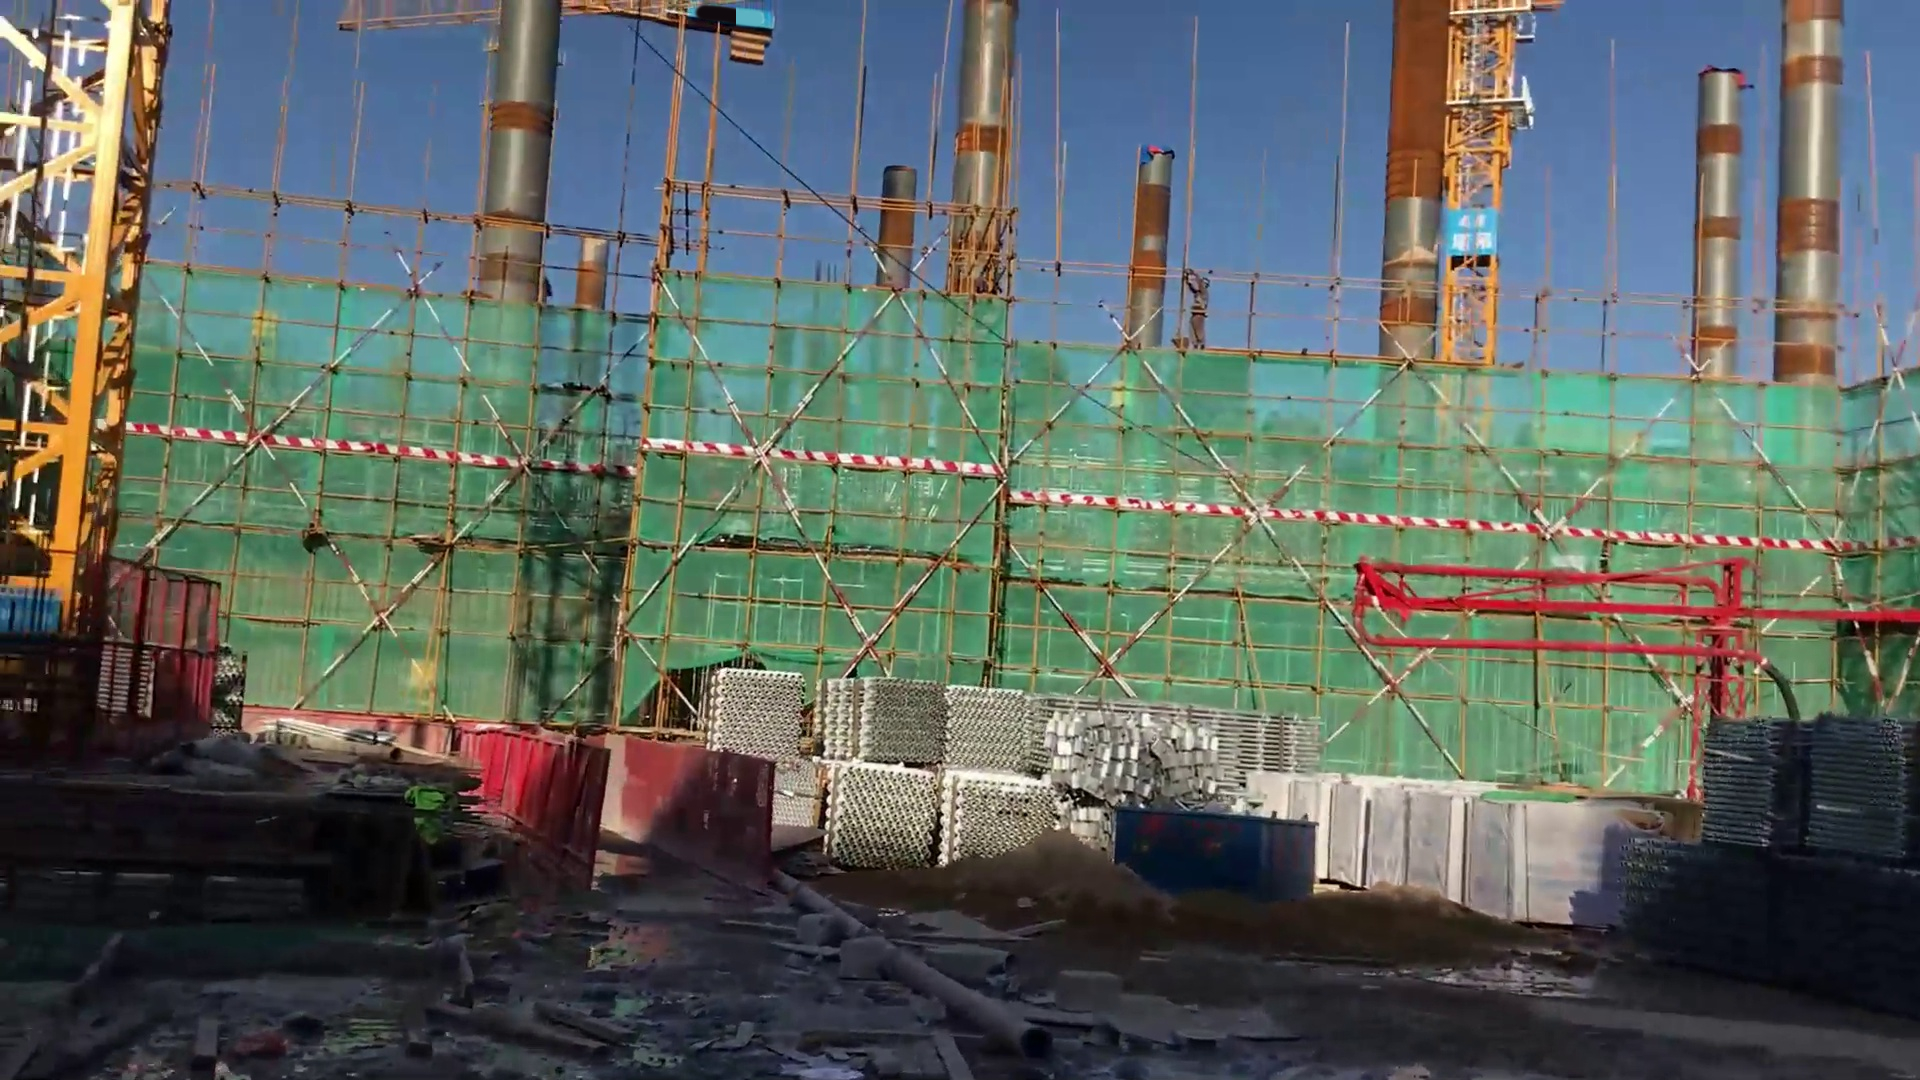fence: (393, 704, 764, 895), (75, 554, 233, 735)
hopper: (1112, 796, 1302, 894)
scaffold: (705, 673, 1048, 802), (1696, 712, 1920, 891), (825, 765, 1047, 891)
